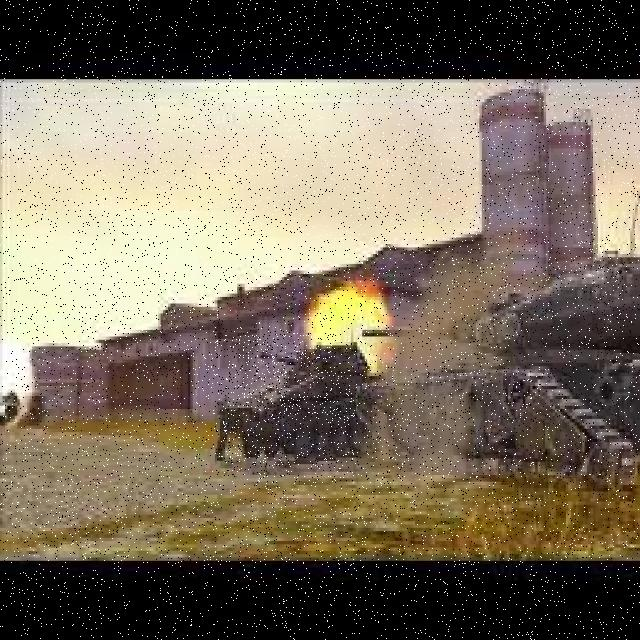MIL_MBT: (357, 264, 628, 478), (217, 333, 357, 467)
